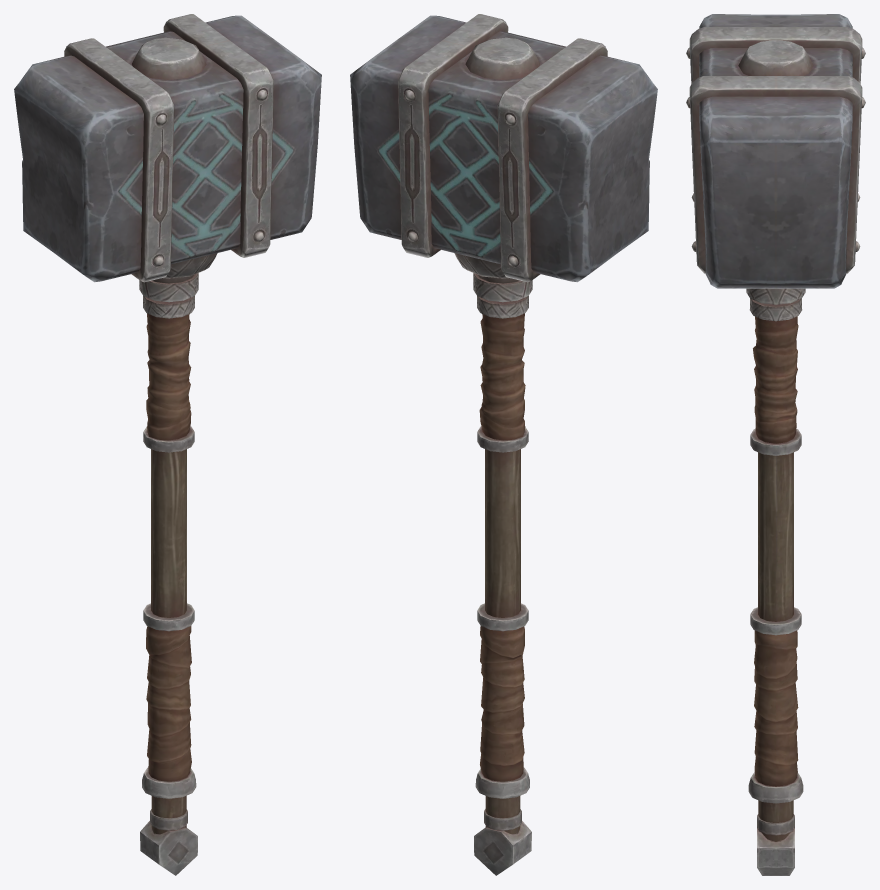
3 views of the same model, side by side, from view 1: azimuth 30°, elevation 25°; view 2: azimuth 150°, elevation 25°; view 3: azimuth 270°, elevation 25° (orthographic).
Parts seen in each view (by area): view 1: SM_Warhammer_GraniteMaul_2H_01_LOD0; view 2: SM_Warhammer_GraniteMaul_2H_01_LOD0; view 3: SM_Warhammer_GraniteMaul_2H_01_LOD0.
Part boxes in pixels (box(x1,y1,x2,y2)): SM_Warhammer_GraniteMaul_2H_01_LOD0: box(14, 14, 321, 875); SM_Warhammer_GraniteMaul_2H_01_LOD0: box(350, 14, 657, 875); SM_Warhammer_GraniteMaul_2H_01_LOD0: box(686, 14, 865, 875).
Bounding box in the file's own units: 0.4604 × 1.48 × 0.2929.
1 material, 1 textured.
